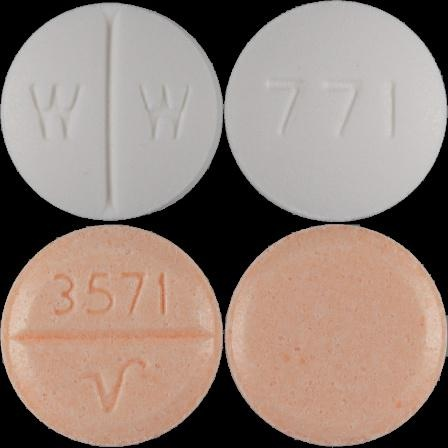0615-1560: (0, 0, 224, 224)
